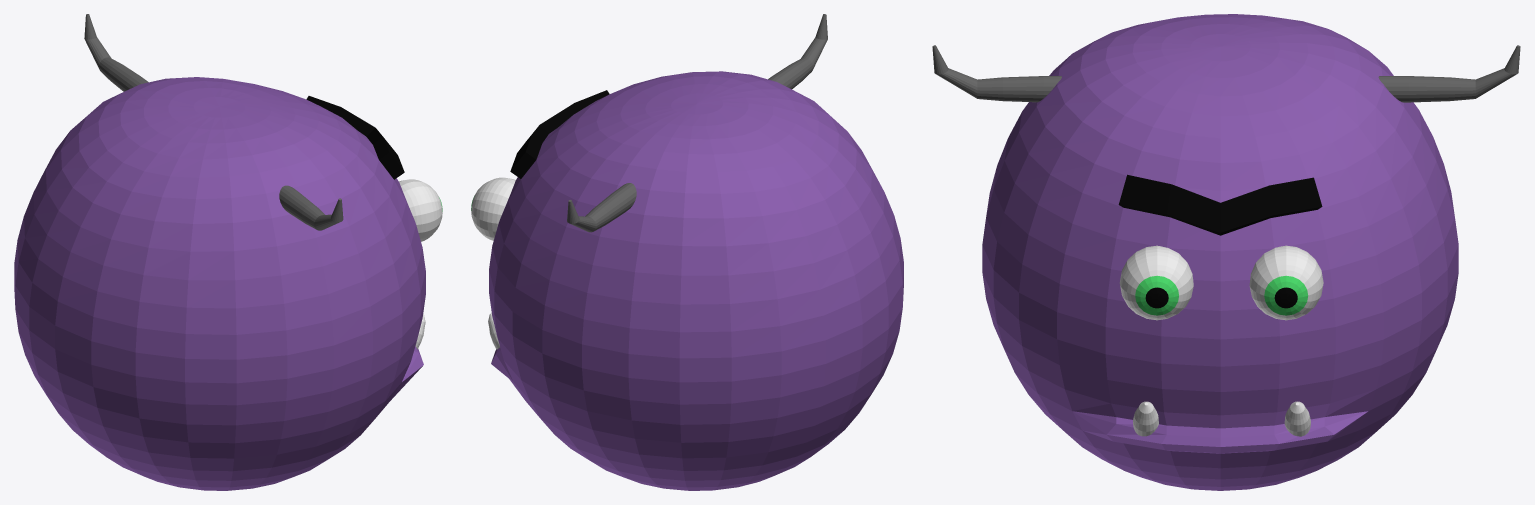
The model's file is Monster5.fbx.
3 renders of one model, left to right at view 1: azimuth 30°, elevation 25°; view 2: azimuth 150°, elevation 25°; view 3: azimuth 270°, elevation 25°, orthographic. The views are drawn at different scales.
Parts seen in each view (by area): view 1: pCylinder23; view 2: pCylinder23; view 3: pCylinder23.
Part boxes in pixels (bbox=[...]): pCylinder23: bbox=[14, 14, 442, 490]; pCylinder23: bbox=[471, 14, 903, 490]; pCylinder23: bbox=[932, 14, 1520, 490].
Bounding box in the file's own units: 177 × 168 × 211.
